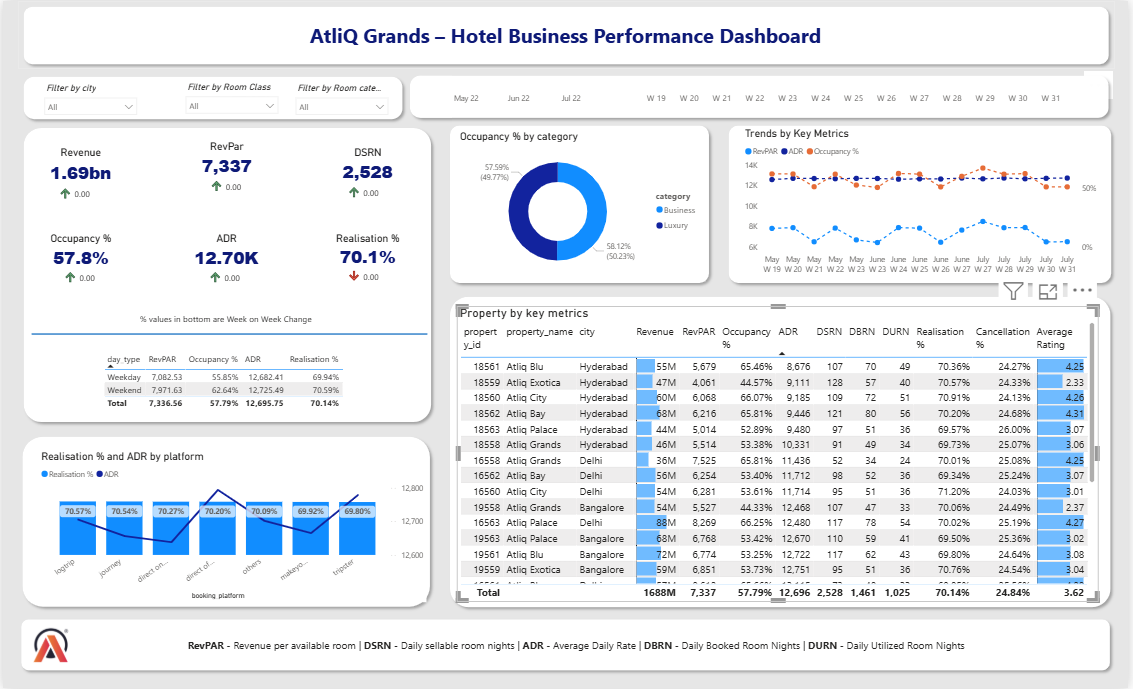

What the dashboard file says about the page in this screenshot:
{"tool":"powerbi","page":{"name":"Page 1","canvas":[1800,1100],"ordinal":0},"visuals":[{"type":"shape","box":[24,0,1754,110],"z":0},{"type":"tableEx","fields":{"Values":["key_measures_table.DSRN WoW change %"]},"box":[542.6,261.2,83.5,68.7],"z":500,"group":"g2"},{"type":"tableEx","fields":{"Values":["key_measures_table.ADR WoW change %"]},"box":[321.7,398.7,72.9,68.6],"z":1000,"group":"g4"},{"type":"shape","box":[705,463.5,1075,515],"z":1000},{"type":"shape","box":[22.9,688.9,670,290],"z":2000},{"type":"shape","box":[1151.9,189.1,630,270],"z":3000},{"type":"shape","box":[706.9,189.1,432.5,270],"z":4000},{"type":"shape","box":[23.8,193.7,670,488.6],"z":5000},{"type":"shape","box":[643,110.8,1136,86],"z":6000},{"type":"shape","box":[24,112,624,86],"z":7000},{"type":"tableEx","fields":{"Values":["key_measures_table.Revenue WoW change %"]},"box":[79.6,262.9,88.2,66.8],"z":7000,"group":"g1"},{"type":"tableEx","title":"Property by key metrics","fields":{"Values":["dim_hotels.property_id","dim_hotels.property_name","dim_hotels.city","key_measures_table.Revenue","key_measures_table.RevPAR","key_measures_table.Occupancy %","key_measures_table.ADR","key_measures_table.DSRN","key_measures_table.DBRN","key_measures_table.DURN","key_measures_table.Realisation %","key_measures_table.Cancellation %"]},"box":[726,488,1026,474],"z":8000},{"type":"slicer","title":"Filter by City","fields":{"Values":["dim_hotels.city"]},"box":[56,126,168,58],"z":9000},{"type":"slicer","title":"Filter by Room Type","fields":{"Values":["dim_date.mmm yy"]},"box":[675,126.8,300,58],"z":10000},{"type":"tableEx","fields":{"Values":["key_measures_table.Revpar WoW change %"]},"box":[322.1,251.9,86.7,68.3],"z":10000,"group":"g6"},{"type":"slicer","fields":{"Values":["dim_date.week no"]},"box":[995,124.8,732,60],"z":11000},{"type":"card","title":"DSRN","fields":{"Values":["key_measures_table.DSRN"]},"box":[526.8,231.6,115,65.9],"z":11000,"group":"g2"},{"type":"donutChart","fields":{"Category":["dim_hotels.category"],"Y":["key_measures_table.Occupancy %"]},"box":[726.9,206.6,397.5,242.5],"z":12000},{"type":"lineChart","title":"Trends by Key Metrics","fields":{"Category":["dim_date.mmm yy.Variation.Date Hierarchy.Month","dim_date.week no"],"Y":["key_measures_table.RevPAR","key_measures_table.ADR"],"Y2":["key_measures_table.Occupancy %"]},"box":[1181.9,201.6,572.5,242.5],"z":13000},{"type":"tableEx","fields":{"Values":["key_measures_table.Occupancy WoW change %"]},"box":[87.7,397.9,72.9,68.6],"z":13000,"group":"g3"},{"type":"card","title":"ADR","fields":{"Values":["key_measures_table.ADR"]},"box":[298.8,369.9,118.6,62.9],"z":14000,"group":"g4"},{"type":"tableEx","fields":{"Values":["dim_date.day_type","key_measures_table.RevPAR","key_measures_table.Occupancy %","key_measures_table.ADR","key_measures_table.Realisation %"]},"box":[156.7,555.1,402.9,111.4],"z":14000},{"type":"tableEx","fields":{"Values":["key_measures_table.Realisation WoW change %"]},"box":[541.8,396.6,83.3,68.3],"z":15000,"group":"g5"},{"type":"lineStackedColumnComboChart","title":"Realisation % and ADR by platform","fields":{"Category":["fact_bookings.booking_platform"],"Y":["key_measures_table.Realisation %"],"Y2":["key_measures_table.ADR"]},"box":[55.7,717.4,621.4,244.3],"z":15000},{"type":"slicer","title":"Filter by City","fields":{"Values":["dim_rooms.room_class"]},"box":[282,124,168,62],"z":16000},{"type":"group","id":"g1","title":"Group 1","box":[55.4,231.4,136.7,98.3],"z":17000},{"type":"group","id":"g2","title":"Group 3","box":[526.8,231.6,115,98.3],"z":18000},{"type":"group","id":"g3","title":"Group 4","box":[55.6,369.1,137.1,97.4],"z":19000},{"type":"group","id":"g4","title":"Group 5","box":[298.8,369.9,118.3,96.7],"z":20000},{"type":"group","id":"g5","title":"Group 6","box":[526.8,369.9,115,95],"z":21000},{"type":"card","title":"Realisation %","fields":{"Values":["key_measures_table.Realisation %"]},"box":[526.8,369.9,115,61.7],"z":21000,"group":"g5"},{"type":"card","title":"Occupancy %","fields":{"Values":["key_measures_table.Occupancy %"]},"box":[55.6,369.1,137.1,62.9],"z":21500,"group":"g3"},{"type":"group","id":"g6","title":"Group 2","box":[308.8,221.6,100,98.3],"z":22000},{"type":"card","title":"Revenue","fields":{"Values":["key_measures_table.Revenue"]},"box":[55.4,231.4,136.7,66.8],"z":22000,"group":"g1"},{"type":"card","title":"RevPar","fields":{"Values":["key_measures_table.RevPAR"]},"box":[308.8,221.6,100,65.7],"z":22500,"group":"g6"},{"type":"shape","box":[20,980,1760,100],"z":23000},{"type":"shape","box":[45.2,509.4,632.9,45.7],"z":24000},{"type":"textbox","box":[213.8,493.7,287.1,31.4],"z":25000},{"type":"textbox","box":[286,1014,1282,56],"z":26000},{"type":"image","box":[35,997.5,82.5,65],"z":27000},{"type":"slicer","title":"Filter by City","fields":{"Values":["dim_hotels.category"]},"box":[458,126,168,62],"z":28000},{"type":"textbox","box":[462,28,876,56],"z":29000}]}

Visuals, with their boxes in screenshot pixels (x1, y1, x2, y2), scaled from the page's 1800x1100 canvas onto the 1133x689 screenshot:
shape: x1=15 y1=0 x2=1119 y2=69
tableEx - key_measures_table.DSRN WoW change %: x1=342 y1=164 x2=394 y2=207
tableEx - key_measures_table.ADR WoW change %: x1=202 y1=250 x2=248 y2=293
shape: x1=444 y1=290 x2=1120 y2=613
shape: x1=14 y1=432 x2=436 y2=613
shape: x1=725 y1=118 x2=1122 y2=288
shape: x1=445 y1=118 x2=717 y2=288
shape: x1=15 y1=121 x2=437 y2=427
shape: x1=405 y1=69 x2=1120 y2=123
shape: x1=15 y1=70 x2=408 y2=124
tableEx - key_measures_table.Revenue WoW change %: x1=50 y1=165 x2=106 y2=207
"Property by key metrics" tableEx: x1=457 y1=306 x2=1103 y2=603
"Filter by City" slicer: x1=35 y1=79 x2=141 y2=115
"Filter by Room Type" slicer: x1=425 y1=79 x2=614 y2=116
tableEx - key_measures_table.Revpar WoW change %: x1=203 y1=158 x2=257 y2=201
slicer - dim_date.week no: x1=626 y1=78 x2=1087 y2=116
"DSRN" card: x1=332 y1=145 x2=404 y2=186
donutChart - dim_hotels.category x key_measures_table.Occupancy %: x1=458 y1=129 x2=708 y2=281
"Trends by Key Metrics" lineChart: x1=744 y1=126 x2=1104 y2=278
tableEx - key_measures_table.Occupancy WoW change %: x1=55 y1=249 x2=101 y2=292
"ADR" card: x1=188 y1=232 x2=263 y2=271
tableEx - dim_date.day_type x key_measures_table.RevPAR: x1=99 y1=348 x2=352 y2=417
tableEx - key_measures_table.Realisation WoW change %: x1=341 y1=248 x2=393 y2=291
"Realisation % and ADR by platform" lineStackedColumnComboChart: x1=35 y1=449 x2=426 y2=602
"Filter by City" slicer: x1=178 y1=78 x2=283 y2=117
"Group 1" group: x1=35 y1=145 x2=121 y2=207
"Group 3" group: x1=332 y1=145 x2=404 y2=207
"Group 4" group: x1=35 y1=231 x2=121 y2=292
"Group 5" group: x1=188 y1=232 x2=263 y2=292
"Group 6" group: x1=332 y1=232 x2=404 y2=291
"Realisation %" card: x1=332 y1=232 x2=404 y2=270
"Occupancy %" card: x1=35 y1=231 x2=121 y2=271
"Group 2" group: x1=194 y1=139 x2=257 y2=200
"Revenue" card: x1=35 y1=145 x2=121 y2=187
"RevPar" card: x1=194 y1=139 x2=257 y2=180
shape: x1=13 y1=614 x2=1120 y2=676
shape: x1=28 y1=319 x2=427 y2=348
textbox: x1=135 y1=309 x2=315 y2=329
textbox: x1=180 y1=635 x2=987 y2=670
image: x1=22 y1=625 x2=74 y2=666
"Filter by City" slicer: x1=288 y1=79 x2=394 y2=118
textbox: x1=291 y1=18 x2=842 y2=53
